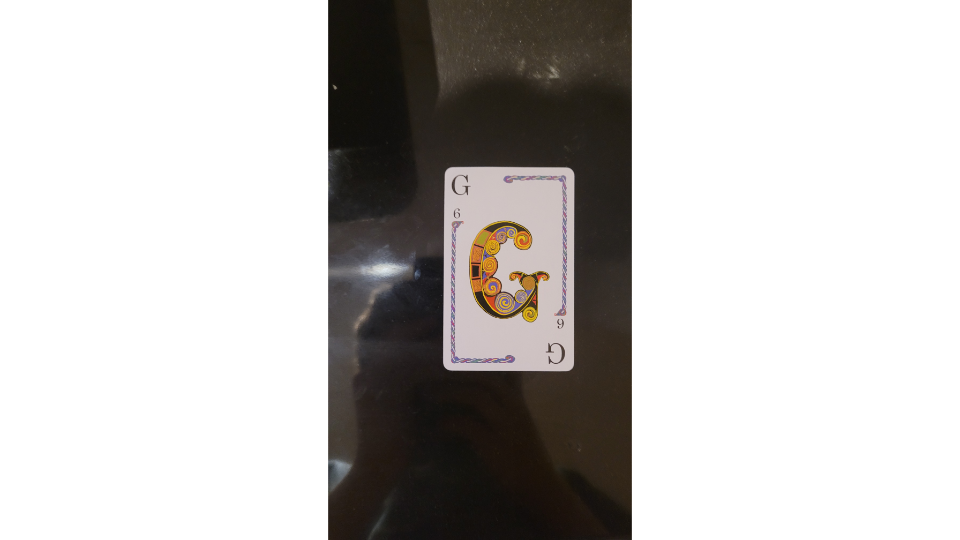G: (437, 162, 579, 376)
